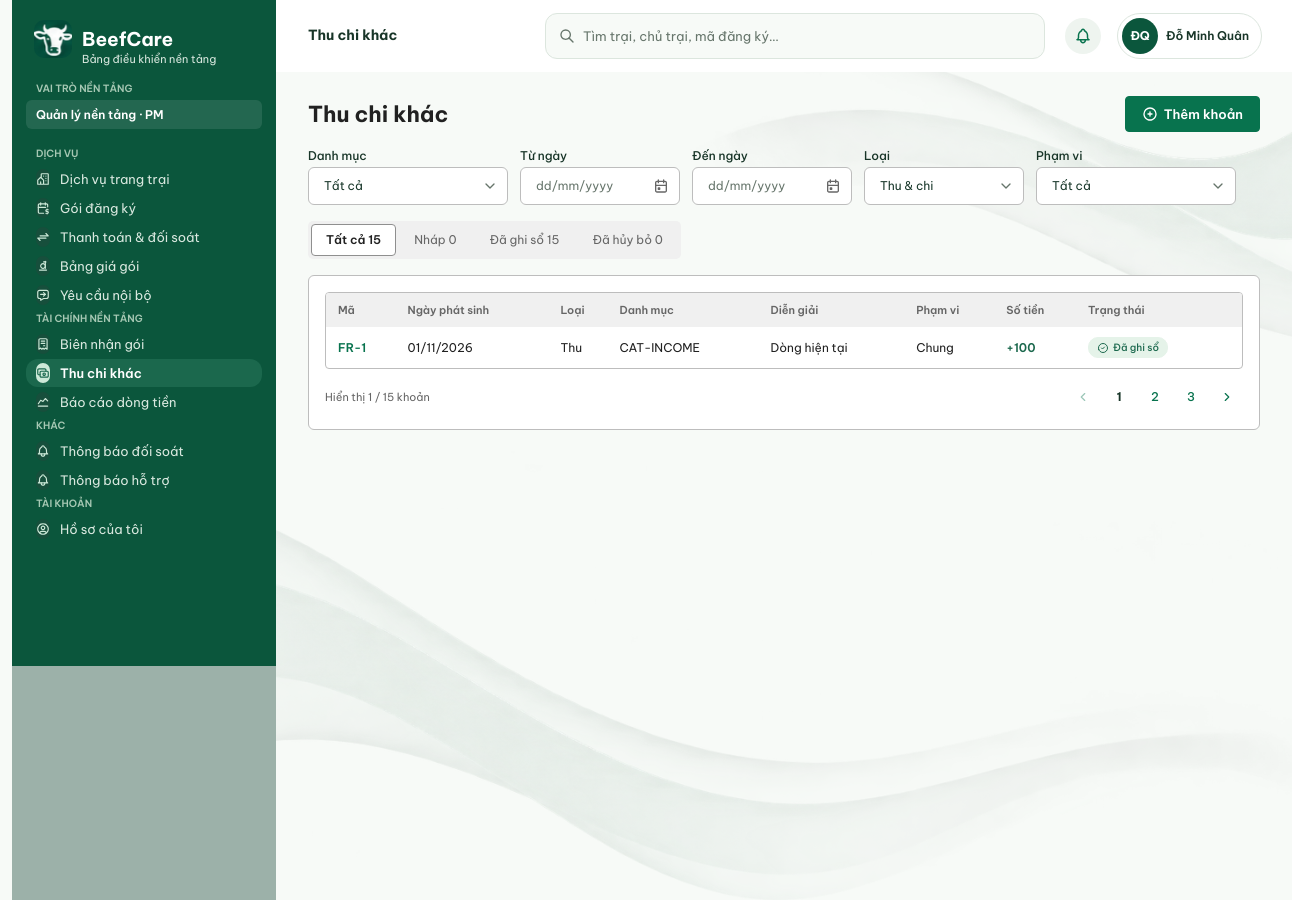
Scenario: SCR-71 phân trang thu chi thủ công › điều hướng sang trang kế tiếp và gọi API với trang mới
expect the button "FR-1" is shown: met, box [338,340,366,356]
Click the button named "Trang sau" at (1227, 397), box [1211,381,1243,413]
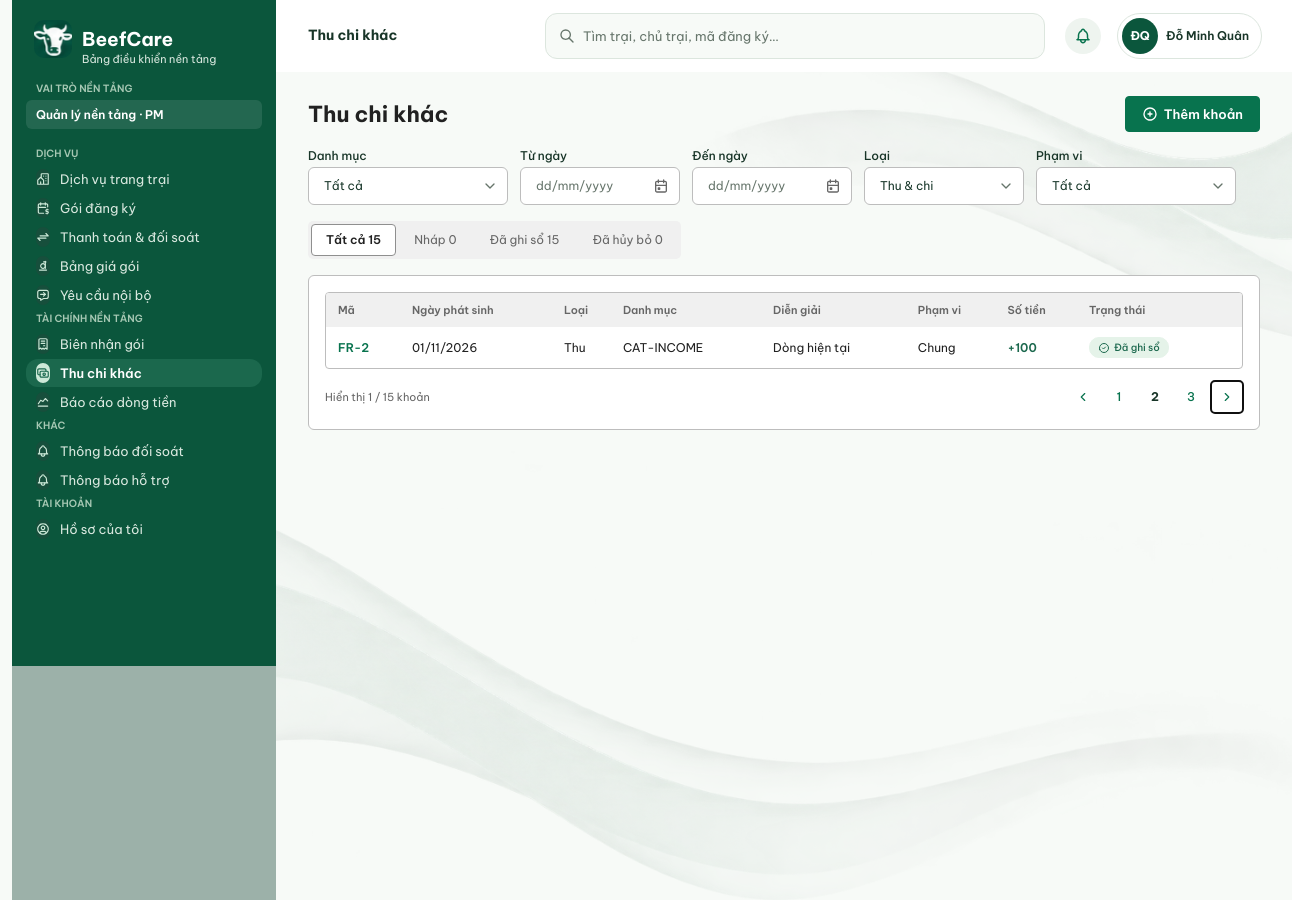
expect the button "FR-2" is shown: met, box [338,340,369,356]
